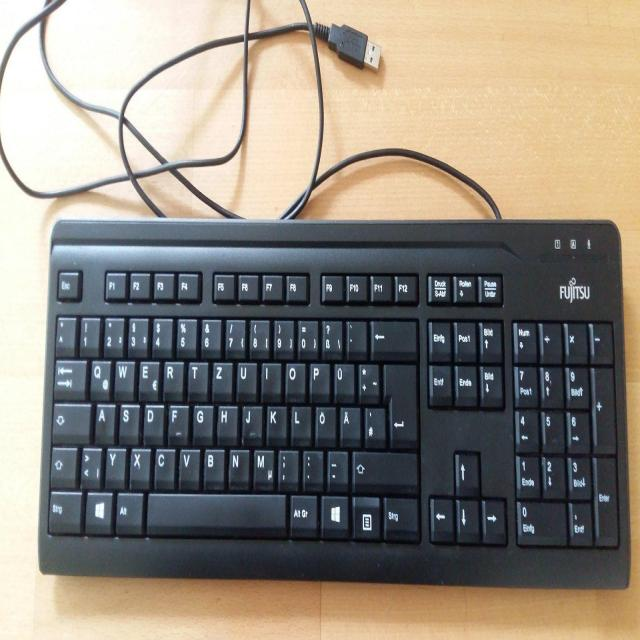0: (296, 316, 317, 356)
1: (78, 315, 99, 354)
2: (102, 315, 124, 354)
3: (127, 314, 148, 354)
4: (151, 315, 172, 353)
5: (175, 315, 196, 353)
6: (199, 315, 220, 353)
7: (224, 316, 245, 354)
8: (248, 316, 269, 356)
9: (272, 317, 293, 356)
a: (93, 401, 114, 443)
accent: (345, 317, 366, 356)
ae: (338, 403, 360, 443)
alt-left: (114, 489, 142, 531)
altgr-right: (289, 491, 317, 532)
b: (202, 444, 224, 485)
c: (153, 444, 175, 485)
caret: (54, 313, 75, 353)
comma: (277, 445, 298, 486)
d: (142, 401, 163, 442)
del: (369, 316, 416, 353)
e: (137, 357, 159, 399)
enter: (382, 358, 417, 445)
f: (166, 401, 188, 442)
g: (191, 401, 212, 441)
h: (216, 403, 237, 440)
hash: (364, 403, 385, 444)
i: (260, 359, 280, 395)
j: (241, 401, 262, 440)
k: (265, 403, 286, 442)
keyboard: (36, 213, 634, 594)
l: (289, 403, 310, 442)
less: (78, 443, 101, 485)
m: (252, 445, 273, 487)
minus: (326, 447, 347, 486)
n: (227, 445, 249, 484)
o: (283, 359, 304, 396)
oe: (313, 403, 335, 443)
p: (308, 359, 329, 397)
plus: (356, 359, 378, 400)
point: (302, 446, 323, 486)
q: (88, 357, 110, 397)
r: (161, 357, 183, 397)
s: (118, 401, 139, 442)
shift-left: (49, 445, 76, 486)
shift-lock: (51, 401, 90, 442)
shift-right: (352, 447, 417, 485)
space: (145, 490, 286, 530)
ss: (321, 317, 342, 357)
strg-left: (46, 488, 81, 532)
strg-right: (382, 494, 419, 538)
t: (186, 358, 207, 395)
tab: (53, 357, 86, 396)
u: (234, 358, 256, 396)
ue: (332, 359, 353, 399)
v: (177, 445, 199, 486)
w: (113, 357, 134, 396)
x: (129, 445, 150, 484)
y: (104, 444, 125, 485)
z: (211, 359, 232, 396)
